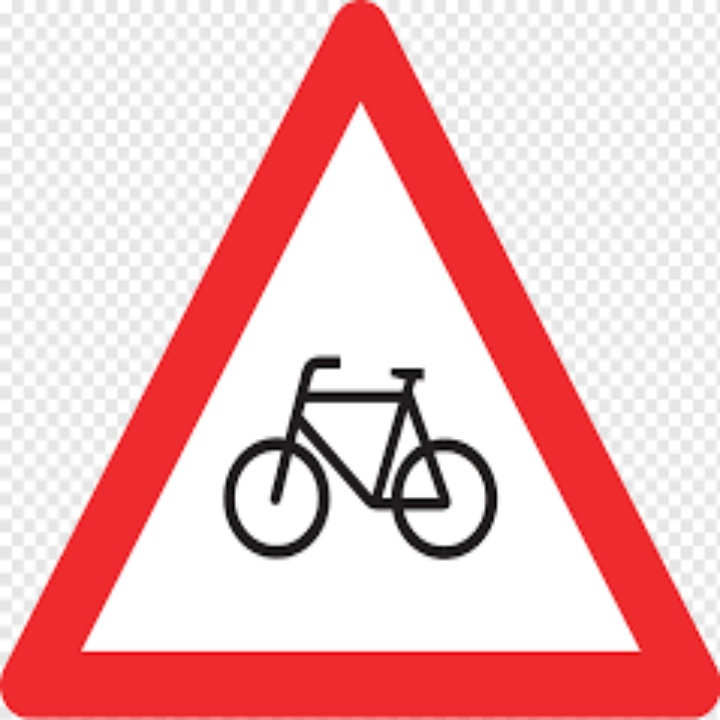bicycle: (215, 347, 505, 573)
